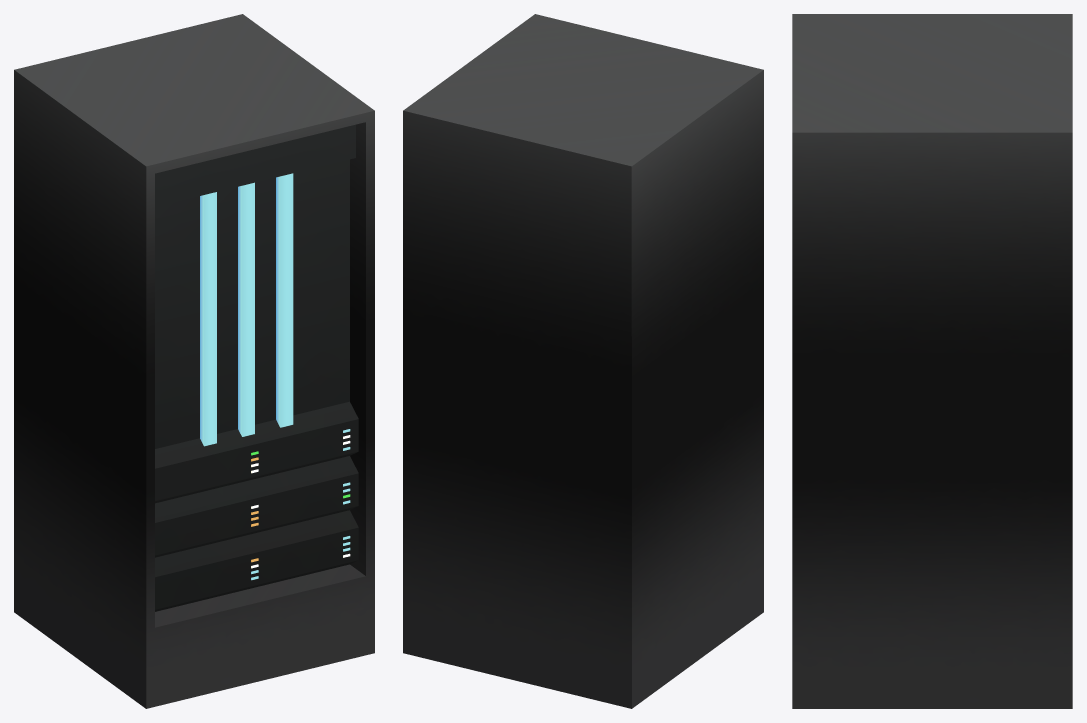
Rendered from Server_Base.fbx.
3 renders of one model, left to right at view 1: azimuth 30°, elevation 25°; view 2: azimuth 150°, elevation 25°; view 3: azimuth 270°, elevation 25°, orthographic. The views are drawn at different scales.
Parts seen in each view (by area): view 1: Server_Base; view 2: Server_Base; view 3: Server_Base.
Part boxes in pixels (x1,y1,x2,y2): Server_Base: (14, 14, 374, 708); Server_Base: (403, 14, 763, 708); Server_Base: (792, 14, 1072, 708).
Bounding box in the file's own units: 90 × 204 × 90.
